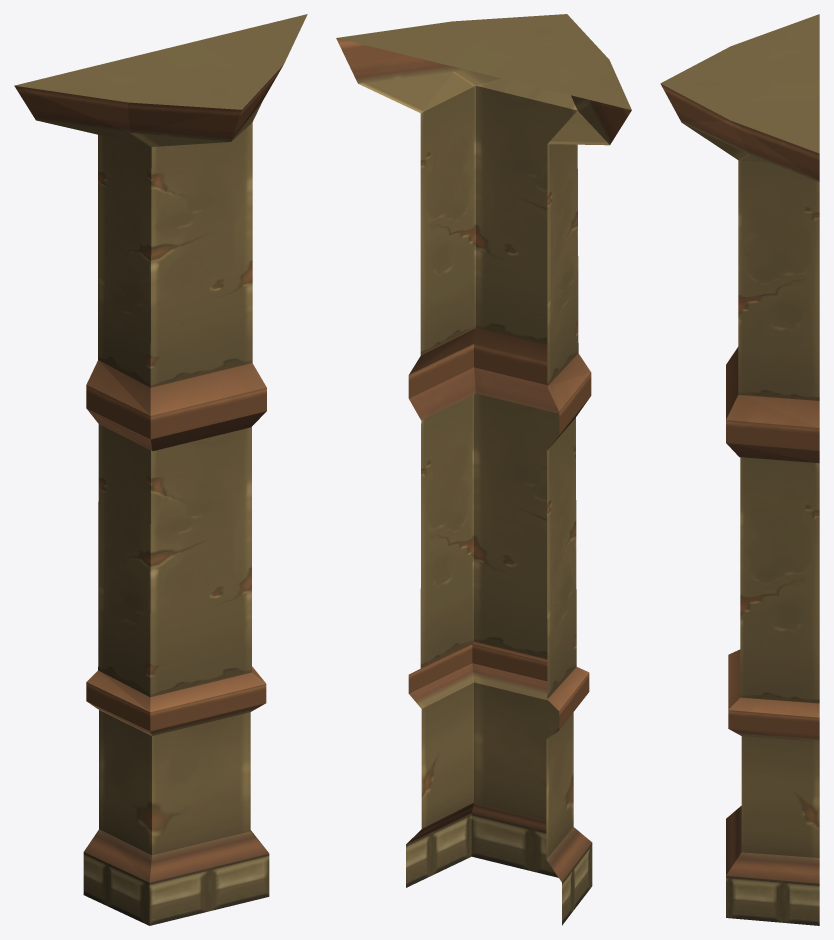
The model's file is pilar.FBX.
3 views of the same model, side by side, from view 1: azimuth 30°, elevation 25°; view 2: azimuth 150°, elevation 25°; view 3: azimuth 270°, elevation 25° (orthographic). The views are drawn at different scales.
Visible parts, largest first — view 1: pilar; view 2: pilar; view 3: pilar.
Boxes of the visible parts, x1=… form: pilar: x1=14, y1=14, x2=307, y2=925; pilar: x1=336, y1=14, x2=631, y2=925; pilar: x1=660, y1=14, x2=819, y2=925.
Bounding box in the file's own units: 352 × 947 × 170.
